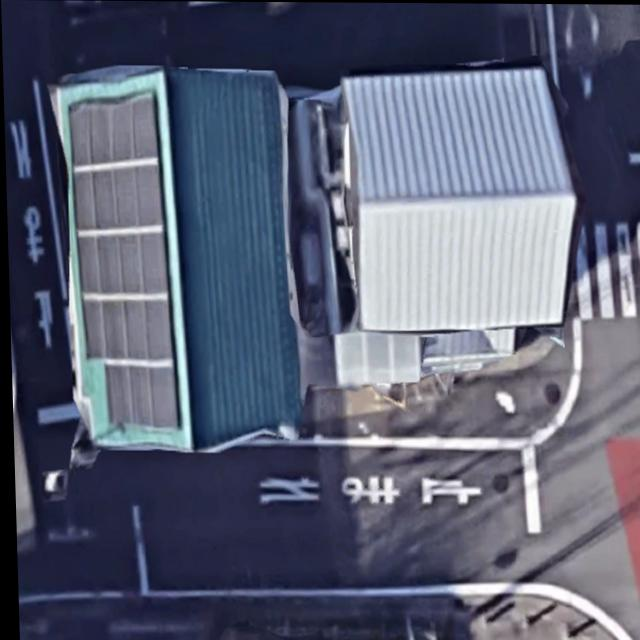Batiment: (50, 68, 298, 449), (341, 67, 576, 331)
